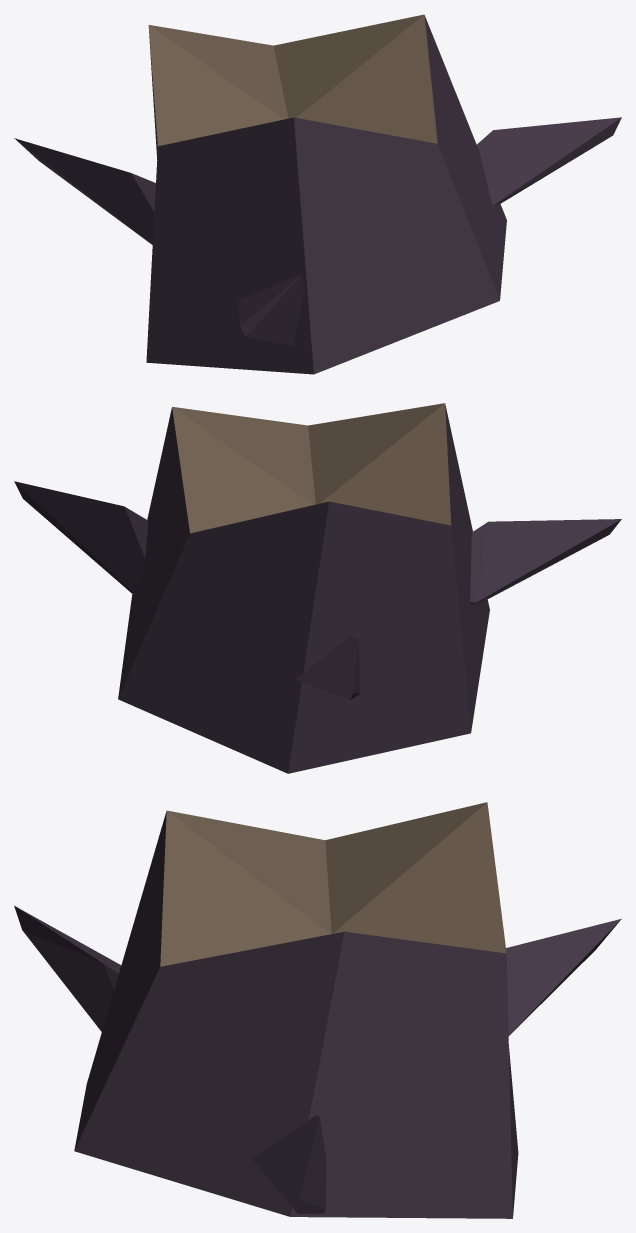
Rendered from toco_3.glb.
3 views of the same model, one above another, from view 1: azimuth 30°, elevation 25°; view 2: azimuth 150°, elevation 25°; view 3: azimuth 270°, elevation 25° (orthographic). The views are drawn at different scales.
Parts seen in each view (by area): view 1: toco_3; view 2: toco_3; view 3: toco_3.
Boxes of the visible parts, left/top/right/bottom form: toco_3: left=14, top=14, right=621, bottom=374; toco_3: left=14, top=403, right=621, bottom=773; toco_3: left=14, top=802, right=621, bottom=1218.
Bounding box in the file's own units: 0.4417 × 0.2314 × 0.3819.
